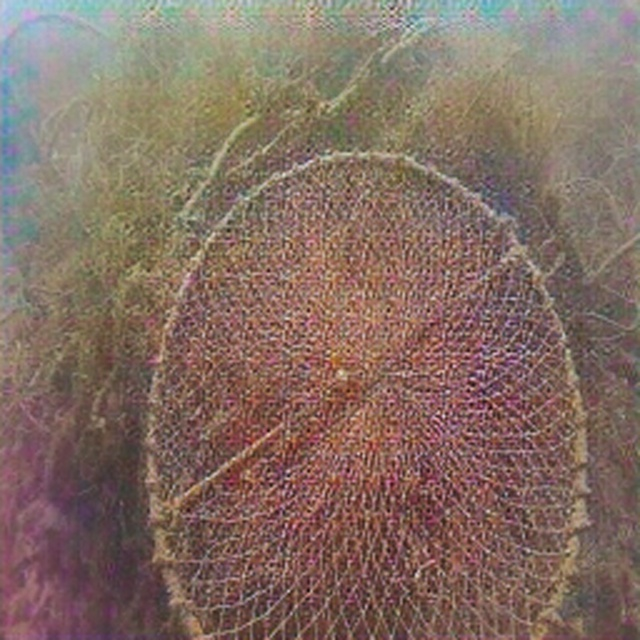mine: (143, 148, 588, 639)
